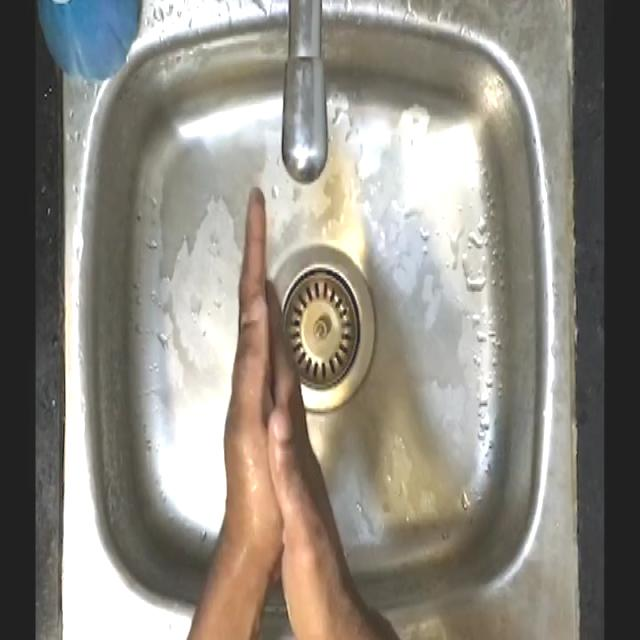step_1: (206, 173, 338, 542)
